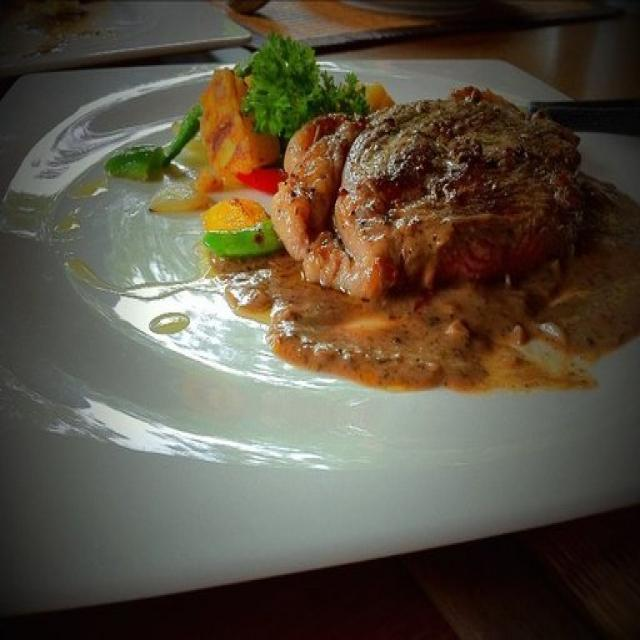Steak: (290, 85, 588, 291)
